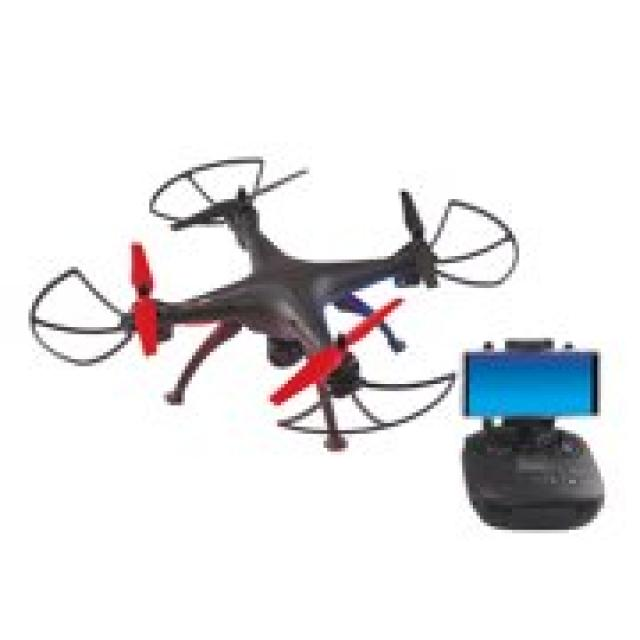drone: (32, 163, 537, 444)
